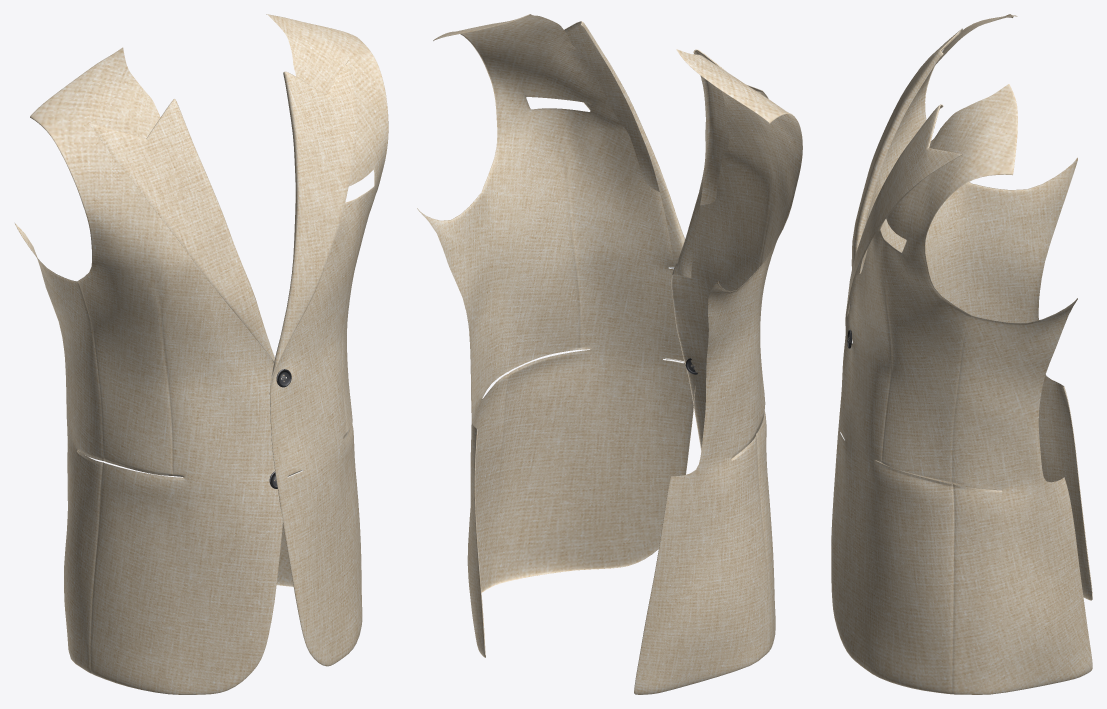
File: double.glb
3 renders of one model, left to right at view 1: azimuth 30°, elevation 25°; view 2: azimuth 150°, elevation 25°; view 3: azimuth 270°, elevation 25°, orthographic. The views are drawn at different scales.
Visible parts, largest first — view 1: peak_double_button1; view 2: peak_double_button1; view 3: peak_double_button1.
Part boxes in pixels (x1,y1,x2,y2): peak_double_button1: [15, 14, 388, 694]; peak_double_button1: [417, 14, 802, 694]; peak_double_button1: [831, 14, 1092, 694].
Bounding box in the file's own units: 0.0585 × 0.102 × 0.0411.
4 materials, 3 textured.
